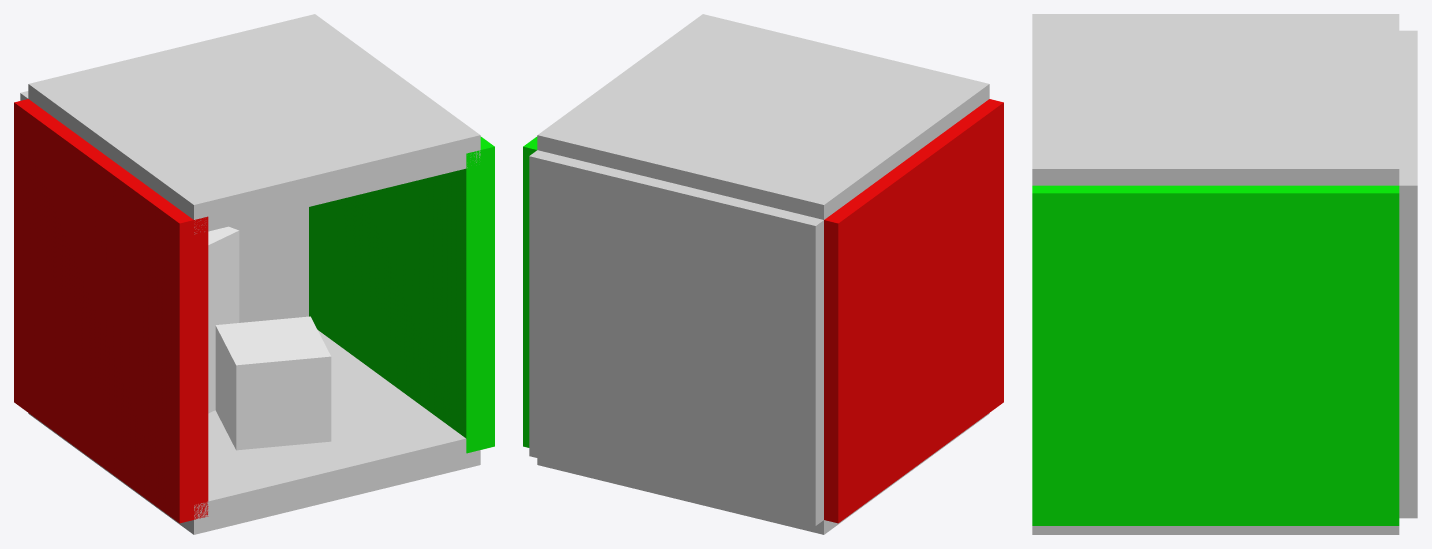
Rendered from cornell_boxes_with_mirror_2.glb.
The picture shows the model from 3 angles, left to right: view 1: azimuth 30°, elevation 25°; view 2: azimuth 150°, elevation 25°; view 3: azimuth 270°, elevation 25°; orthographic projection. The views are drawn at different scales.
Visible parts, largest first — view 1: Cube.001, Cube.002, Cube.003, Cube.004, Cube.006, Cube, Cube.007; view 2: Cube, Cube.001, Cube.002, Cube.004, Cube.003; view 3: Cube.003, Cube.002, Cube, Cube.004.
Boxes of the visible parts, x1,y1,x2,y2 form: Cube.001: [14, 99, 208, 523]; Cube.002: [28, 14, 480, 234]; Cube.003: [309, 136, 494, 453]; Cube.004: [28, 330, 480, 534]; Cube.006: [215, 316, 331, 450]; Cube: [20, 91, 308, 322]; Cube.007: [208, 226, 239, 413]; Cube: [529, 150, 823, 525]; Cube.001: [824, 99, 1003, 523]; Cube.002: [537, 14, 989, 219]; Cube.004: [537, 413, 989, 534]; Cube.003: [523, 136, 537, 447]; Cube.003: [1032, 185, 1399, 525]; Cube.002: [1032, 14, 1399, 185]; Cube: [1399, 30, 1417, 518]; Cube.004: [1032, 526, 1399, 534].
Size of the model in its own units: 2.2 by 2.2 by 2.1.
